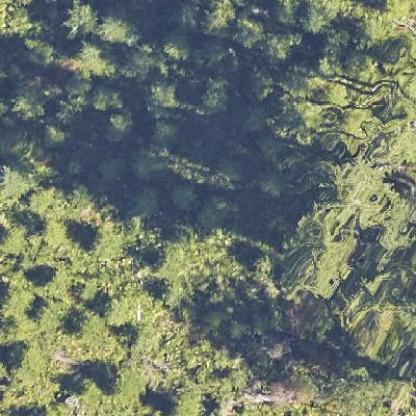tree-top: (74, 41, 111, 79), (99, 293, 130, 329), (147, 76, 180, 109), (167, 180, 200, 210), (84, 224, 113, 252)
